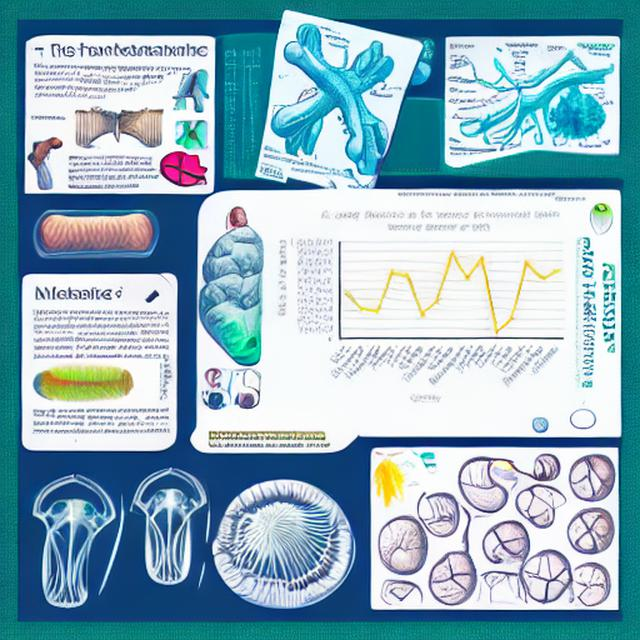Graph: (268, 204, 569, 408)
